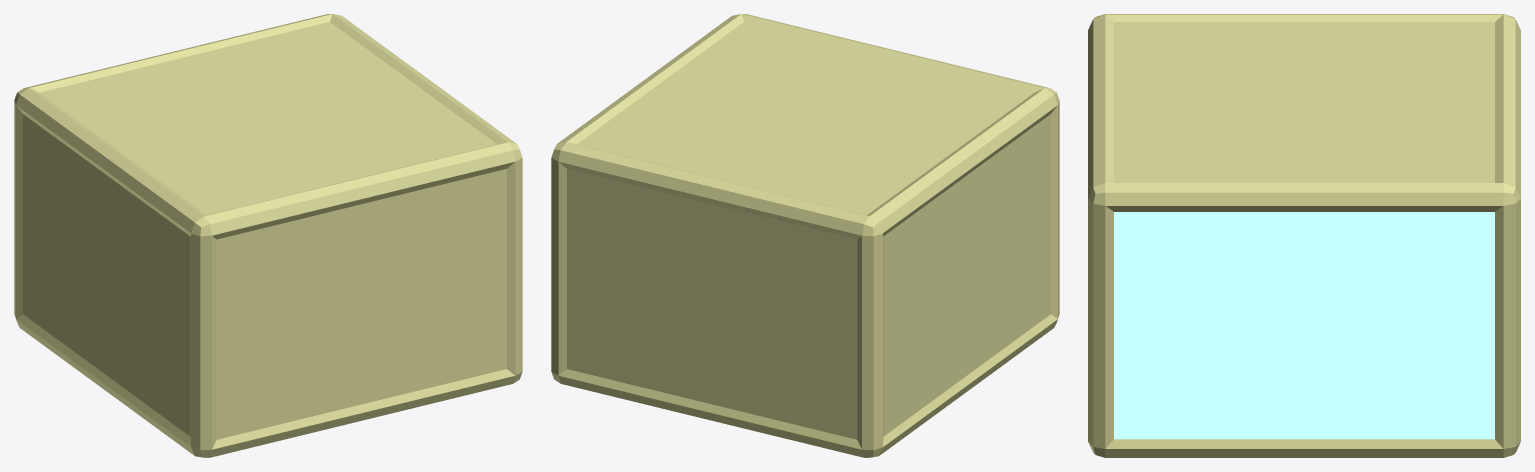
Rendered from SM_UTL_Floodlight_TripodSurvivor_LG.fbx.
3 views of the same model, side by side, from view 1: azimuth 30°, elevation 25°; view 2: azimuth 150°, elevation 25°; view 3: azimuth 270°, elevation 25° (orthographic). The views are drawn at different scales.
Parts seen in each view (by area): view 1: SM_UTL_Floodlight_TripodSurvivor_LG; view 2: SM_UTL_Floodlight_TripodSurvivor_LG; view 3: SM_UTL_Floodlight_TripodSurvivor_LG.
Part boxes in pixels (bbox=[...]): SM_UTL_Floodlight_TripodSurvivor_LG: bbox=[14, 14, 522, 457]; SM_UTL_Floodlight_TripodSurvivor_LG: bbox=[551, 14, 1059, 457]; SM_UTL_Floodlight_TripodSurvivor_LG: bbox=[1088, 14, 1520, 457].
Size of what is drawn, in the model's own units: 2.5 by 1.75 by 2.5.
